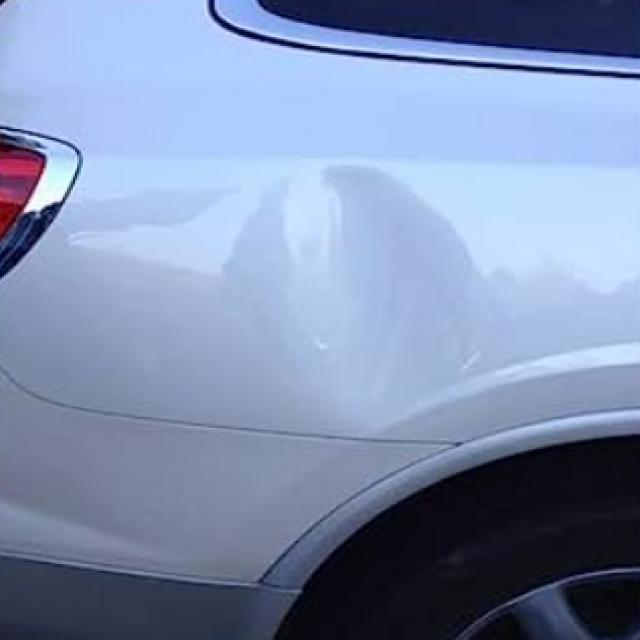dents: (193, 160, 527, 444)
